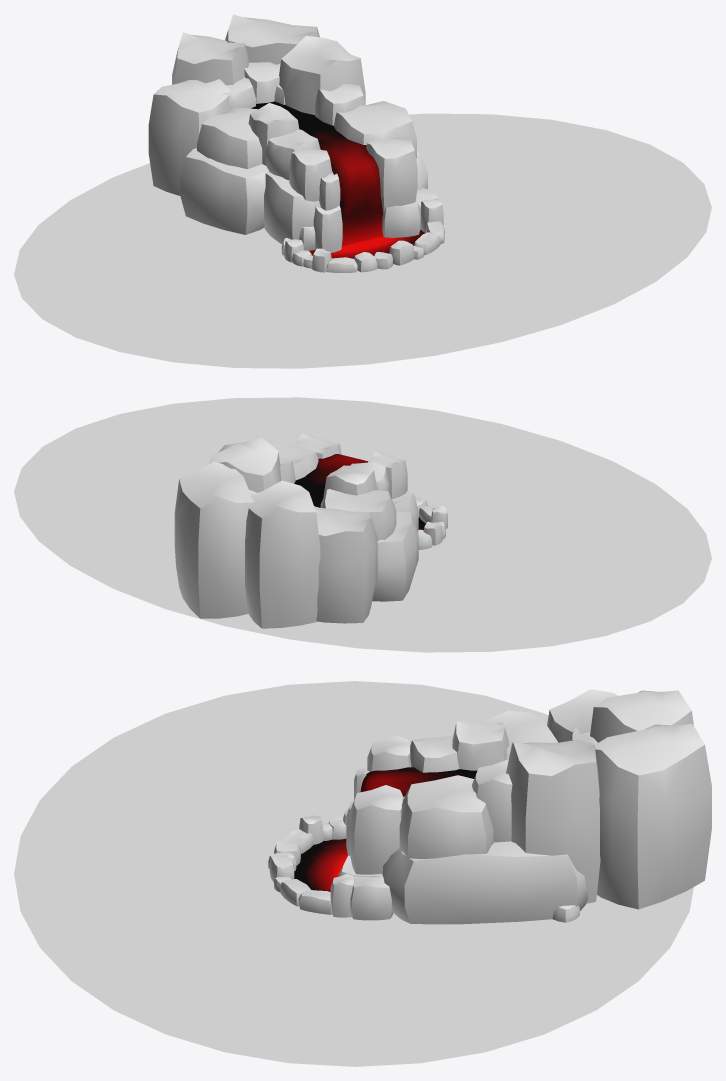
Rendered from WaterfallMesh.dae.
The picture shows the model from 3 angles, top to bottom: view 1: azimuth 30°, elevation 25°; view 2: azimuth 150°, elevation 25°; view 3: azimuth 270°, elevation 25°; orthographic projection. The views are drawn at different scales.
Visible parts, largest first — view 1: BottomWaterfall, Cube.003, Cube.004, Water, Cube.016, Cube.007, Cube.002, Cube.033, Cube.015, Cube.014, Cube, Cube.005 (+10 smaller); view 2: BottomWaterfall, Cube.033, Cube.007, Cube.003, Cube.004, Cube.016, Cube.002, Cube.001, Water, Cube.014, Cube.005, Cube.015 (+2 smaller); view 3: BottomWaterfall, Cube.033, Cube.018, Cube.016, Cube.014, Cube.015, Cube.007, Cube.001, Cube.017, Water.001, Cube.003, Cube.020 (+6 smaller).
Part boxes in pixels (x1,y1,x2,y2): BottomWaterfall: (14,113,711,368); Cube.003: (148,79,231,195); Cube.004: (180,148,269,234); Water: (251,101,383,245); Cube.016: (279,36,365,114); Cube.007: (172,32,248,85); Cube.002: (197,107,262,169); Cube.033: (225,14,319,64); Cube.015: (366,138,417,212); Cube.014: (333,101,416,158); Cube: (264,171,333,244); Cube.005: (289,148,332,201); BottomWaterfall: (14,397,711,652); Cube.033: (174,461,254,618); Cube.007: (245,480,320,628); Cube.003: (315,508,377,623); Cube.004: (372,511,418,601); Cube.016: (209,438,281,492); Cube.002: (320,489,396,540); Cube.001: (323,464,376,496); Water: (294,454,368,507); Cube.014: (264,439,318,480); Cube.005: (368,452,407,499); Cube.015: (294,434,341,458); BottomWaterfall: (14,681,693,1066); Cube.033: (594,724,711,909); Cube.018: (382,841,588,924); Cube.016: (506,739,600,903); Cube.014: (399,775,493,859); Cube.015: (349,785,403,874); Cube.007: (590,690,693,742); Cube.001: (452,718,508,770); Cube.017: (472,759,512,842); Water.001: (294,839,347,891); Cube.003: (547,689,617,742); Cube.020: (350,875,393,920).
Bounding box in the file's own units: 26.3 × 20.1 × 5.78.
